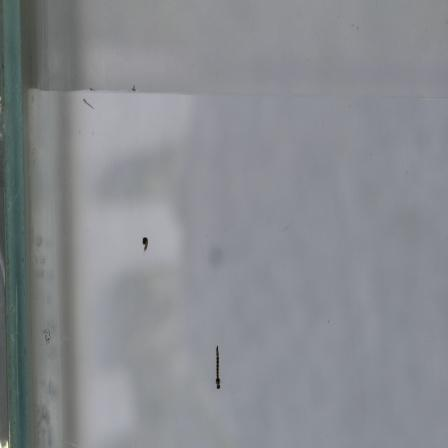Jentik-Nyamuk: (208, 342, 228, 393), (137, 233, 153, 256)
